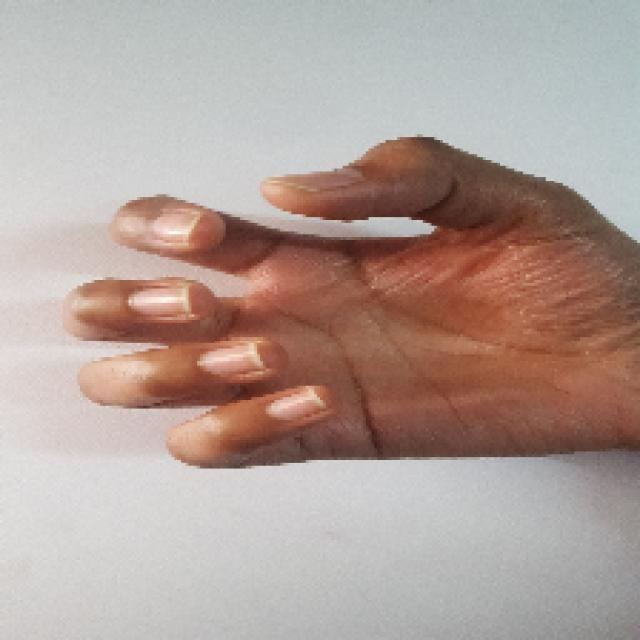Nail: (198, 342, 266, 376), (260, 170, 361, 192), (265, 389, 326, 421), (128, 288, 189, 316), (154, 212, 199, 241)
